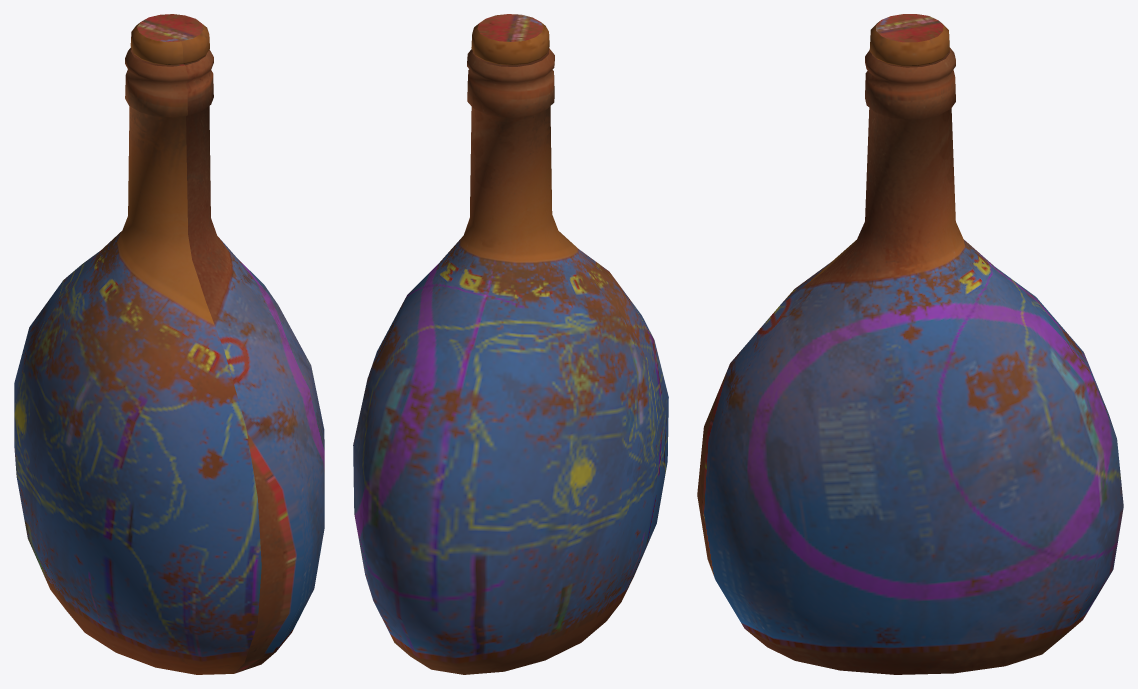
File: SM_Bottle_02.fbx
The picture shows the model from 3 angles, left to right: view 1: azimuth 30°, elevation 25°; view 2: azimuth 150°, elevation 25°; view 3: azimuth 270°, elevation 25°; orthographic projection. The views are drawn at different scales.
Visible parts, largest first — view 1: SM_Bottle_02_LOD0; view 2: SM_Bottle_02_LOD0; view 3: SM_Bottle_02_LOD0.
Boxes of the visible parts, <box> form: SM_Bottle_02_LOD0: <box>14,14,324,674</box>; SM_Bottle_02_LOD0: <box>353,14,668,674</box>; SM_Bottle_02_LOD0: <box>697,14,1123,674</box>.
Size of the model in its own units: 9.55 by 14.15 by 22.26.
